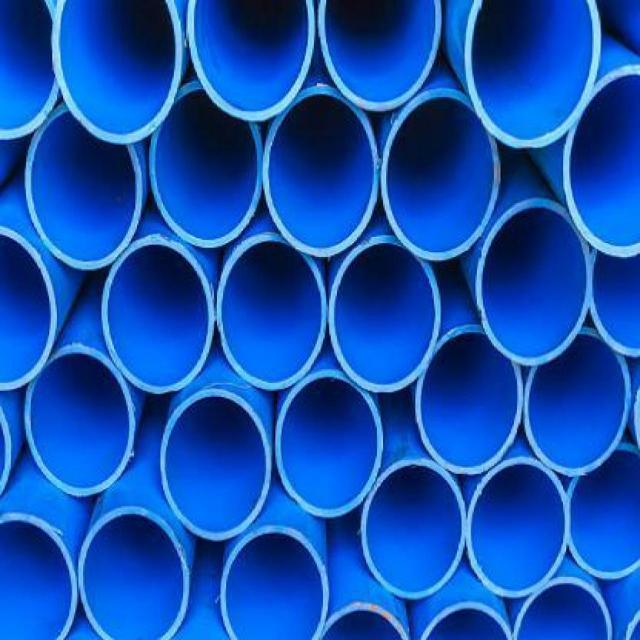pipe: (263, 83, 381, 259), (463, 0, 602, 149), (383, 89, 501, 260), (26, 103, 143, 273), (476, 197, 593, 367), (50, 0, 184, 145), (151, 83, 262, 247), (102, 236, 214, 395), (217, 233, 328, 392), (328, 236, 441, 391), (160, 386, 271, 542), (25, 345, 136, 498), (525, 326, 632, 477), (273, 373, 384, 516), (415, 328, 523, 473), (77, 504, 191, 640), (187, 0, 315, 121), (561, 62, 640, 258), (361, 458, 468, 600), (467, 456, 569, 598), (319, 0, 442, 111), (220, 525, 331, 639), (567, 442, 640, 582), (0, 510, 78, 638), (0, 224, 58, 390), (0, 0, 60, 143), (587, 234, 640, 357), (515, 579, 616, 640), (314, 599, 411, 640), (421, 604, 515, 640)
